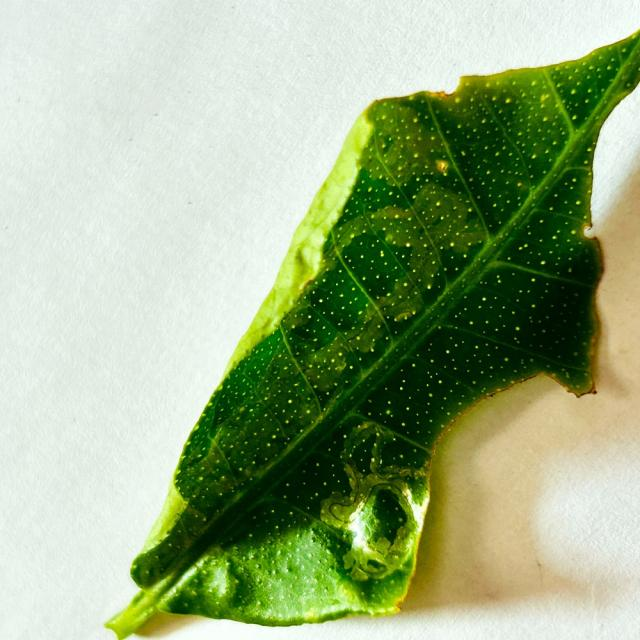Deficiency Leaf: (403, 374, 592, 597), (591, 95, 633, 373)
Lemon: (108, 31, 639, 637)
